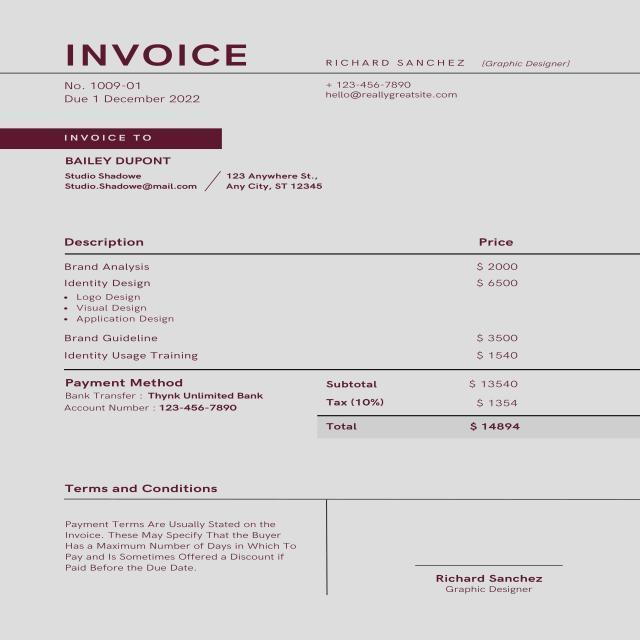paragraph: (57, 231, 562, 370), (64, 481, 305, 586), (58, 129, 347, 203), (321, 56, 584, 115), (318, 377, 533, 443), (60, 377, 269, 423), (51, 35, 263, 72), (32, 79, 216, 113), (432, 569, 548, 601)
